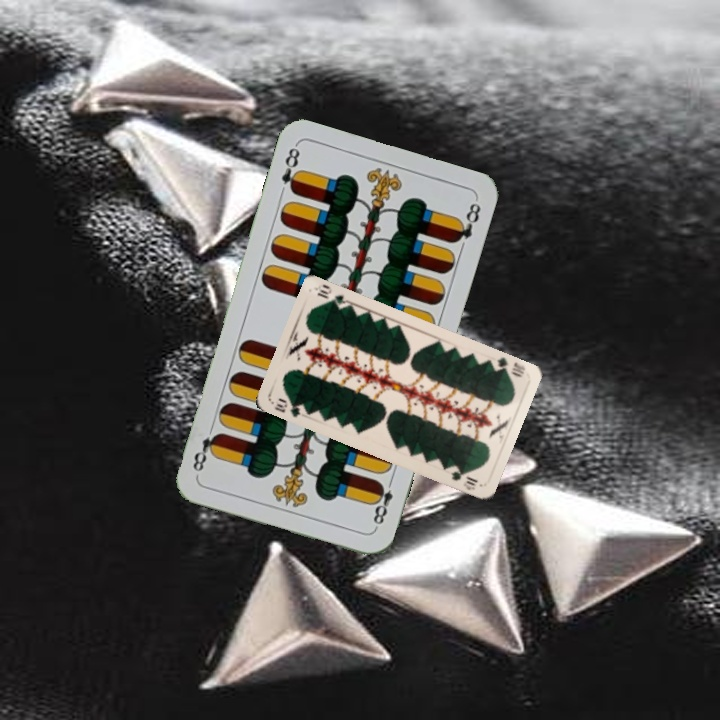E8: (368, 474, 396, 532), (277, 142, 304, 196)
G10: (487, 353, 528, 380), (271, 394, 303, 420)
